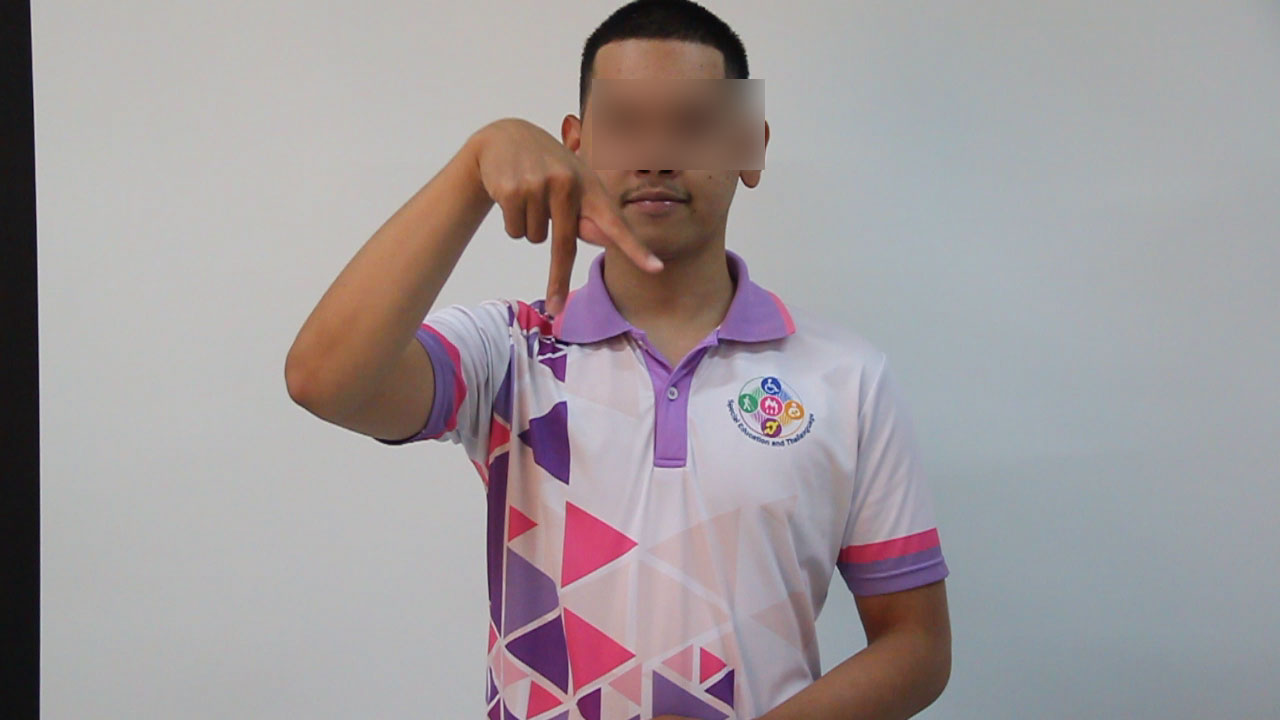por: (457, 95, 676, 330)
